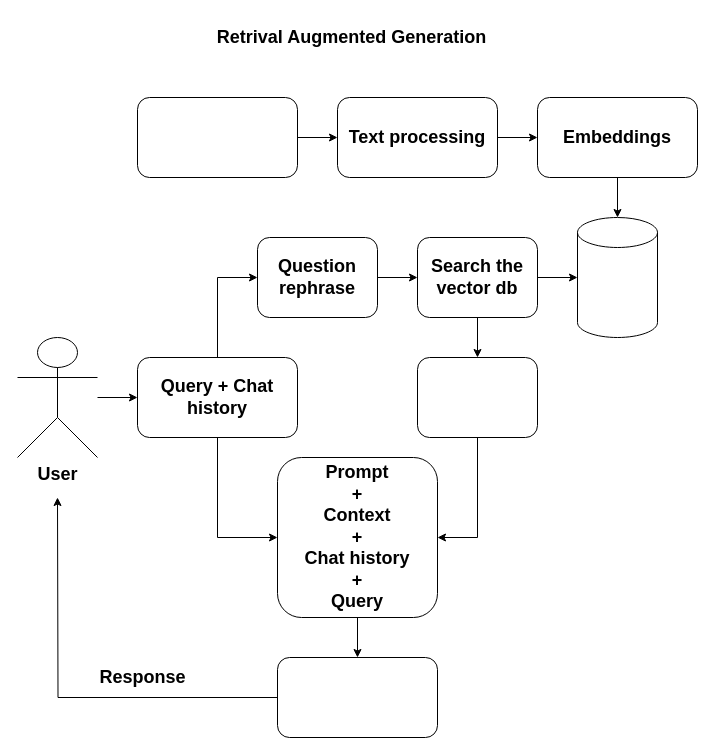
Some shapes in this 715 by 755 pixel diagram are drawn without their labels. Each missing label, with the centre of its shape:
Context: (477,397)
Document: (217,137)
LLM (Gpt3.5, Gpt4): (357,697)
Vector DB: (617,277)
